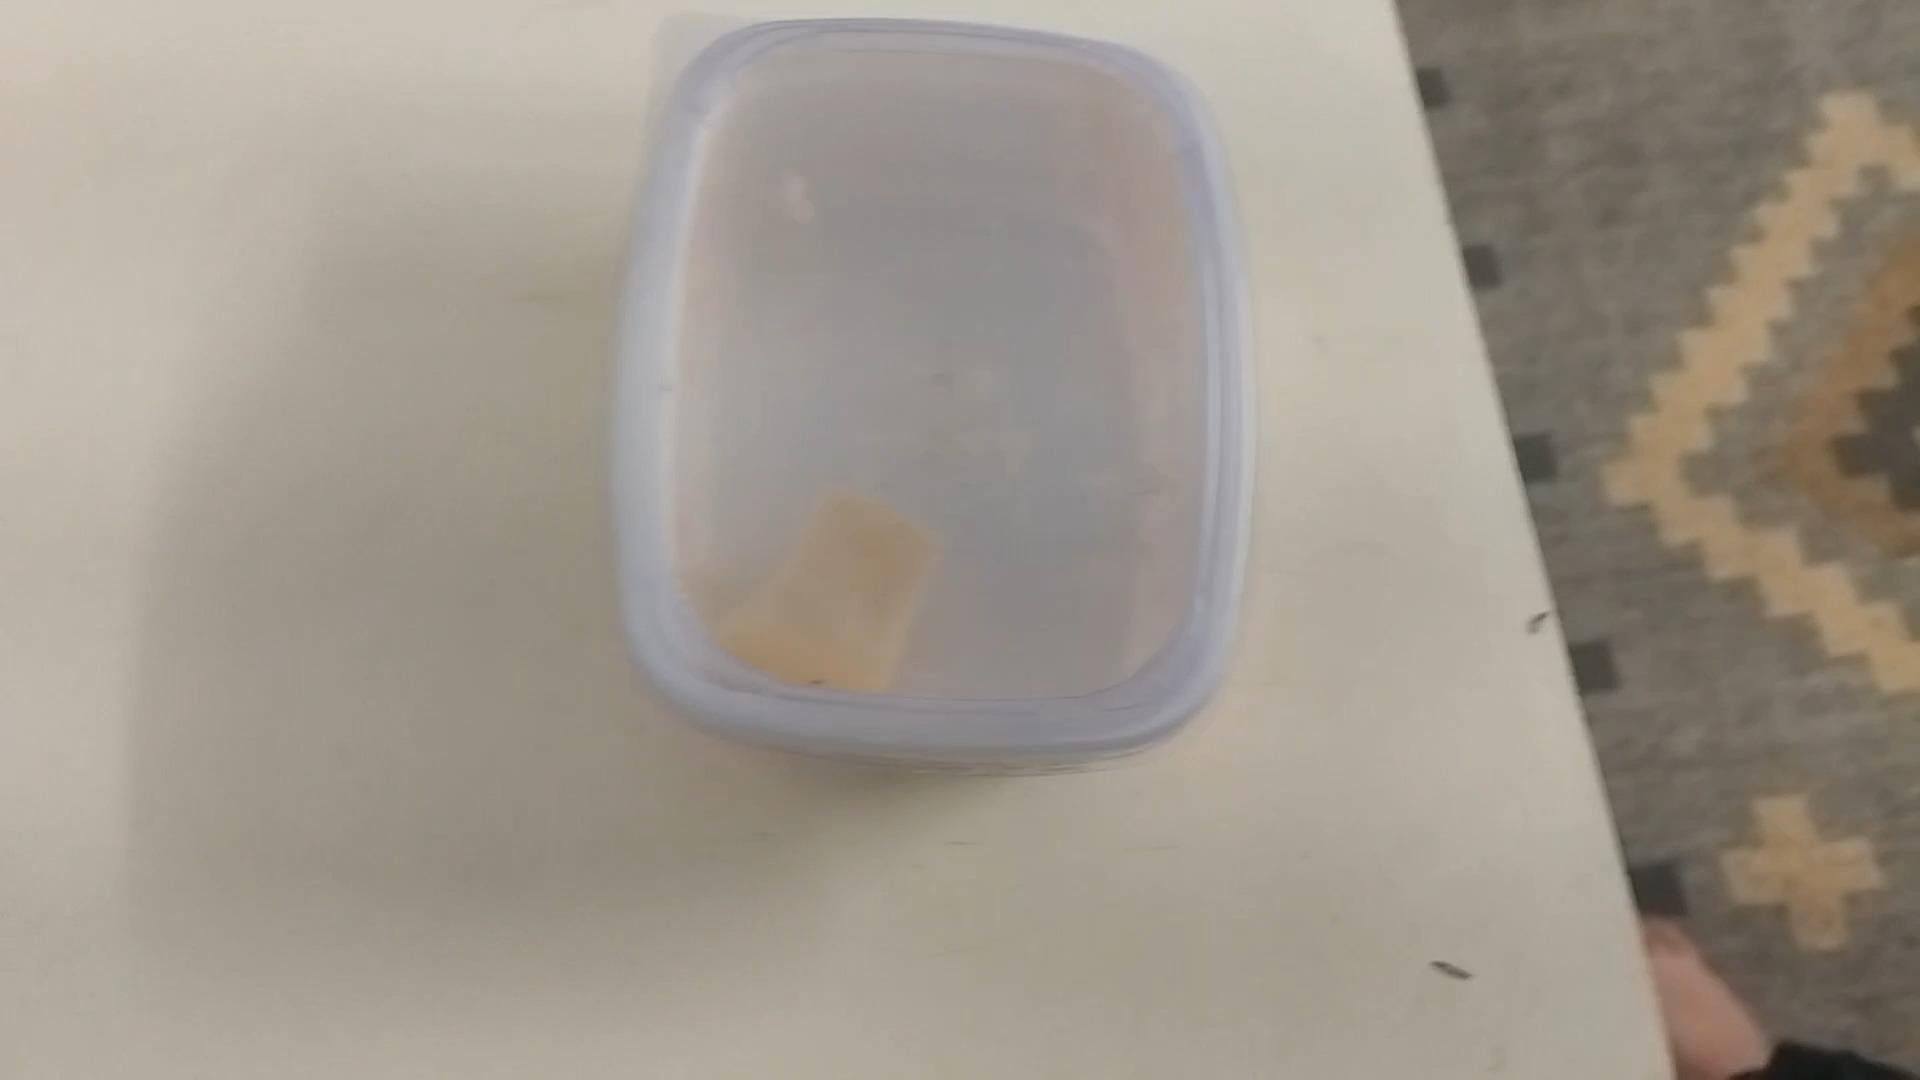butter: (609, 15, 1238, 770)
